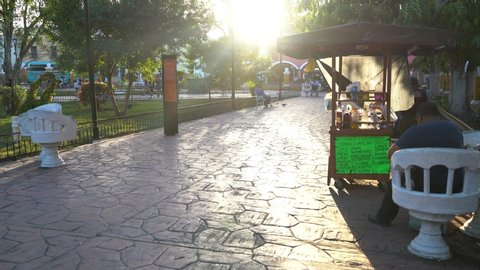cart: (326, 21, 392, 189)
person: (386, 102, 465, 195)
pole: (83, 1, 101, 139)
